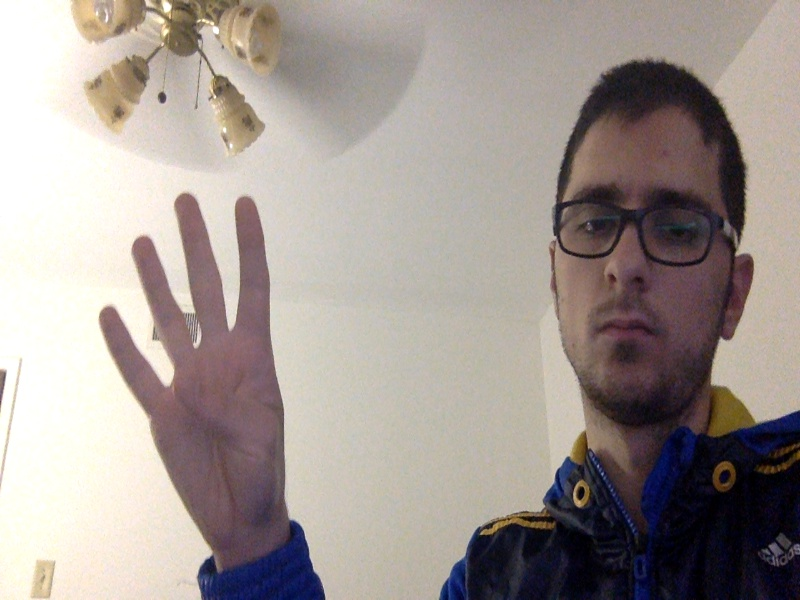4-hand: (98, 192, 286, 538)
